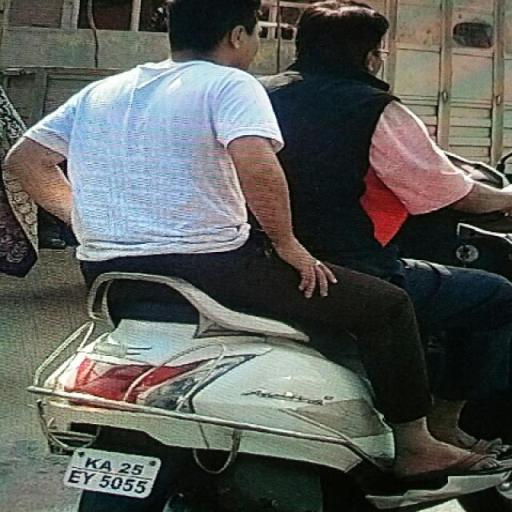bike: (3, 0, 512, 512)
numberplate: (63, 441, 159, 503)
withouthelmet: (300, 1, 389, 74), (169, 2, 260, 60)
